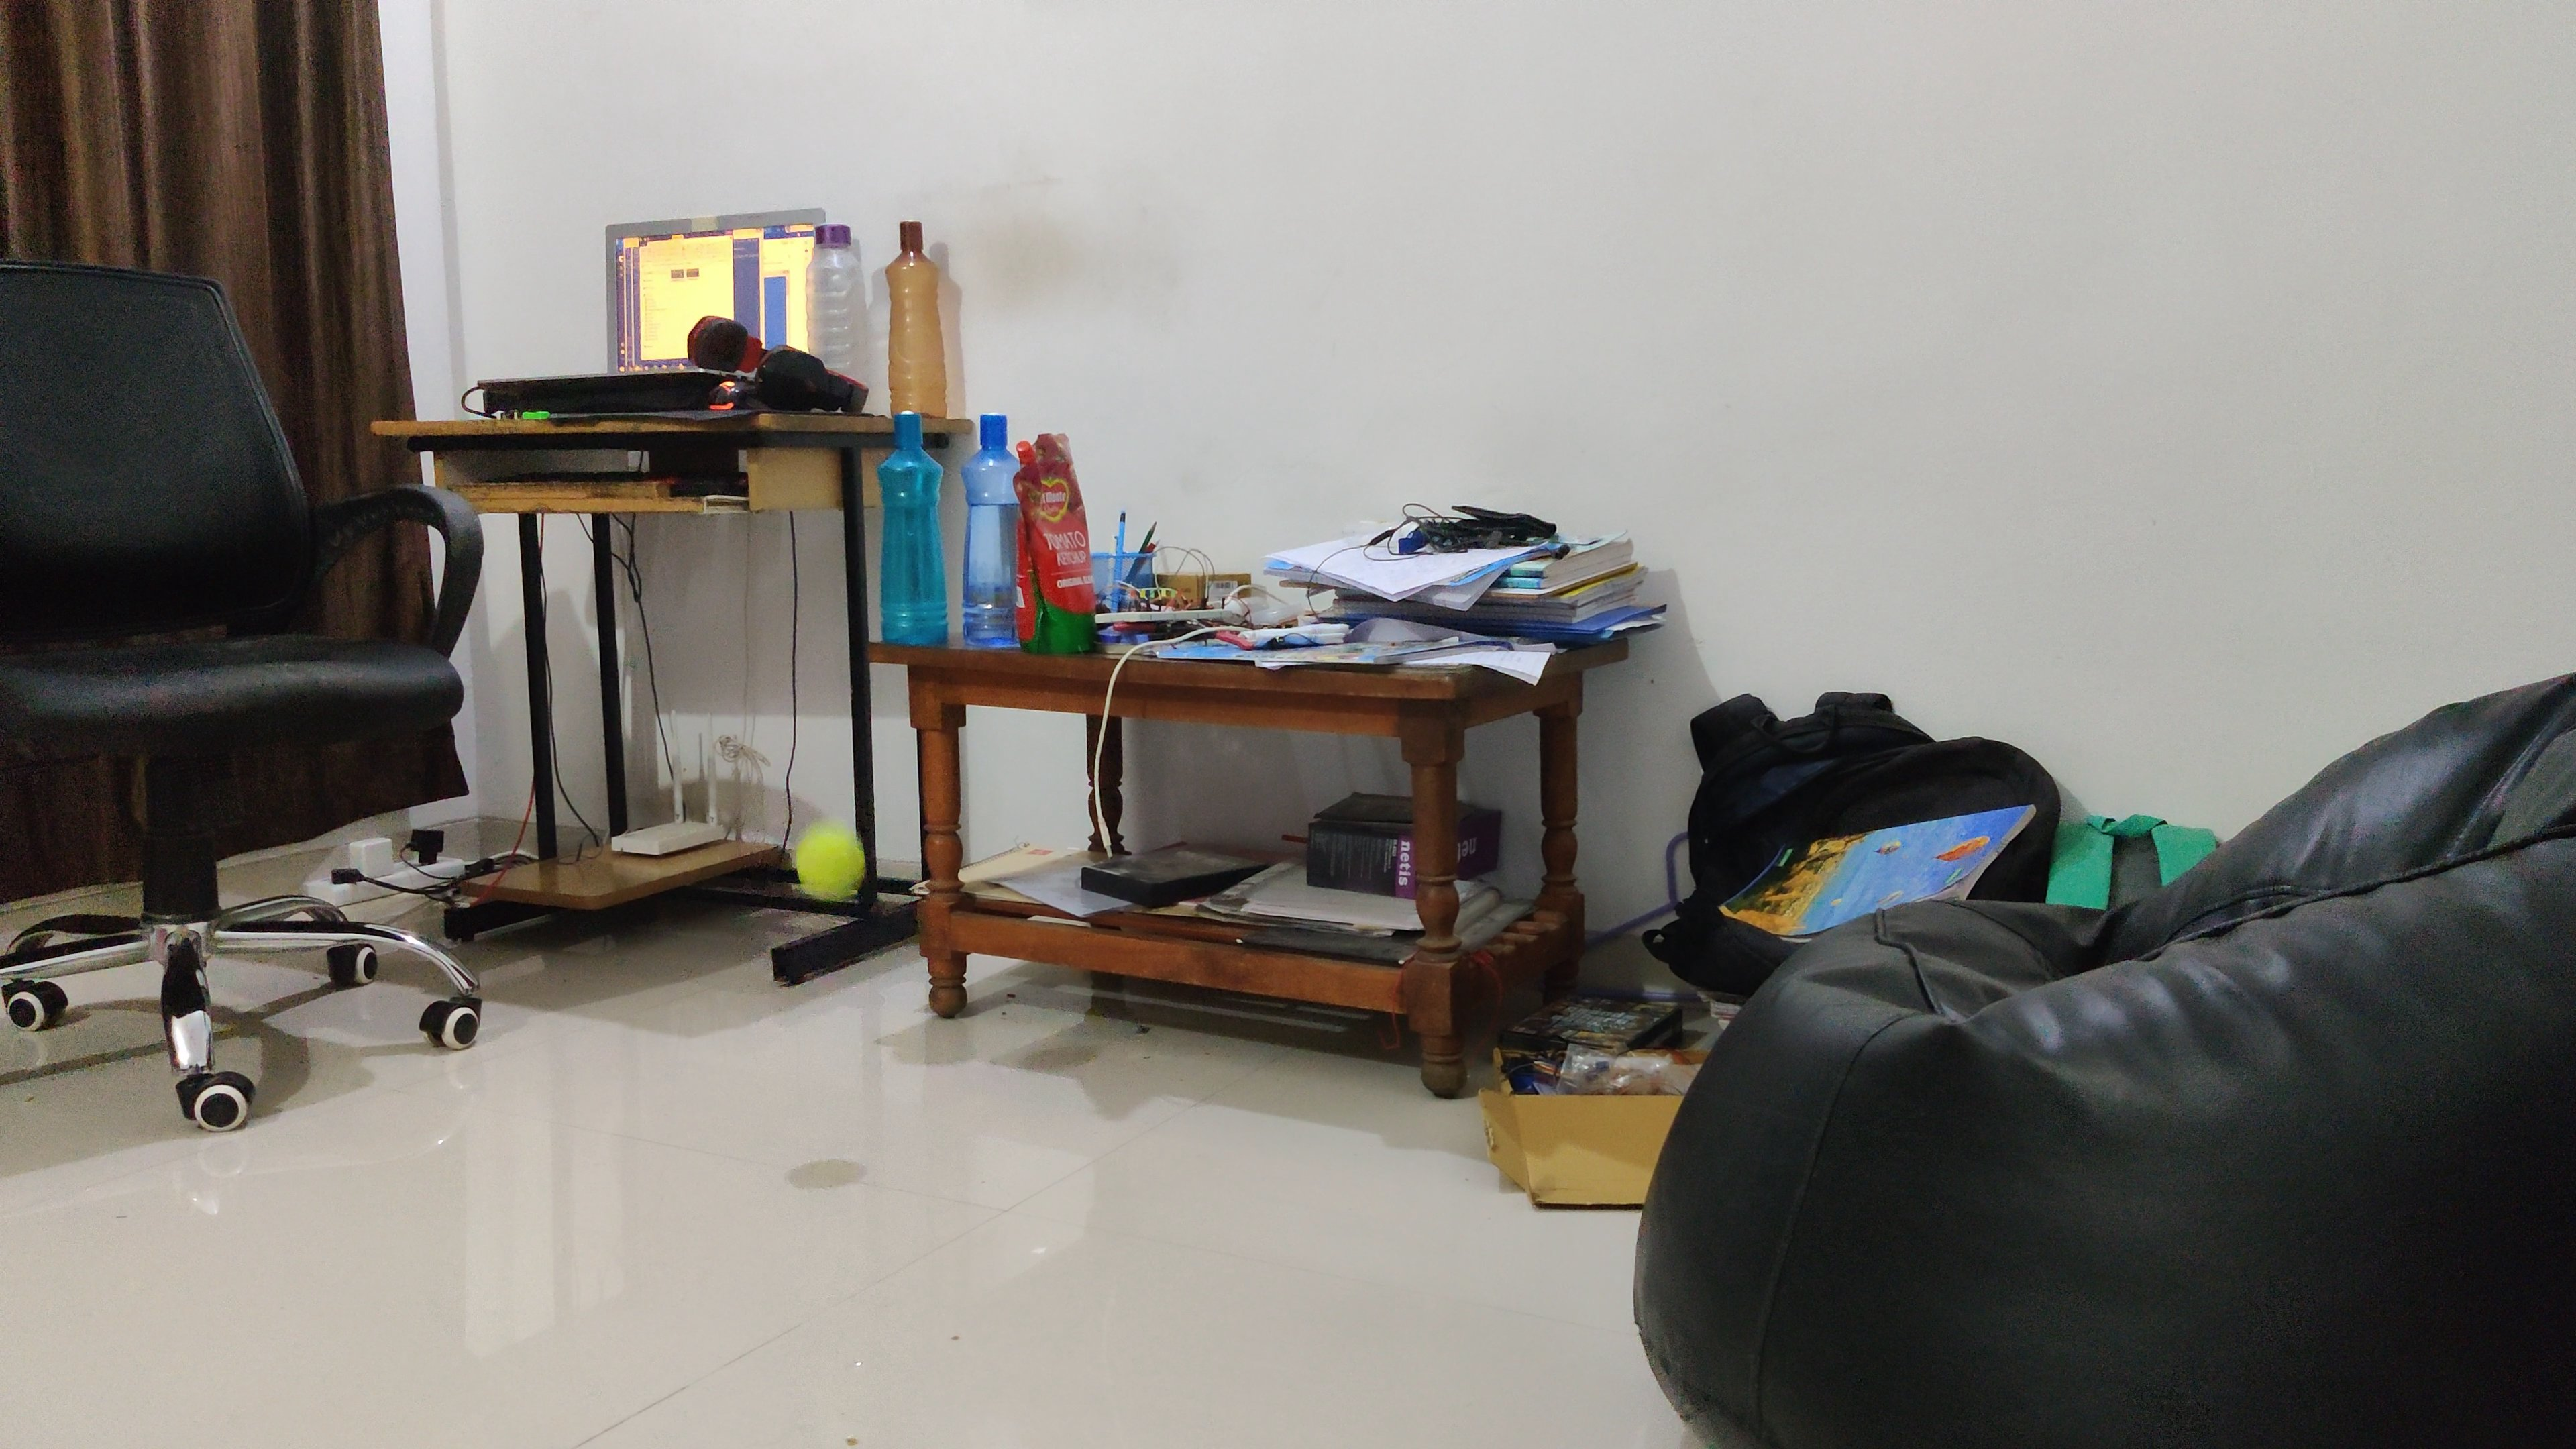Tennis-Ball: (796, 819, 865, 901)
